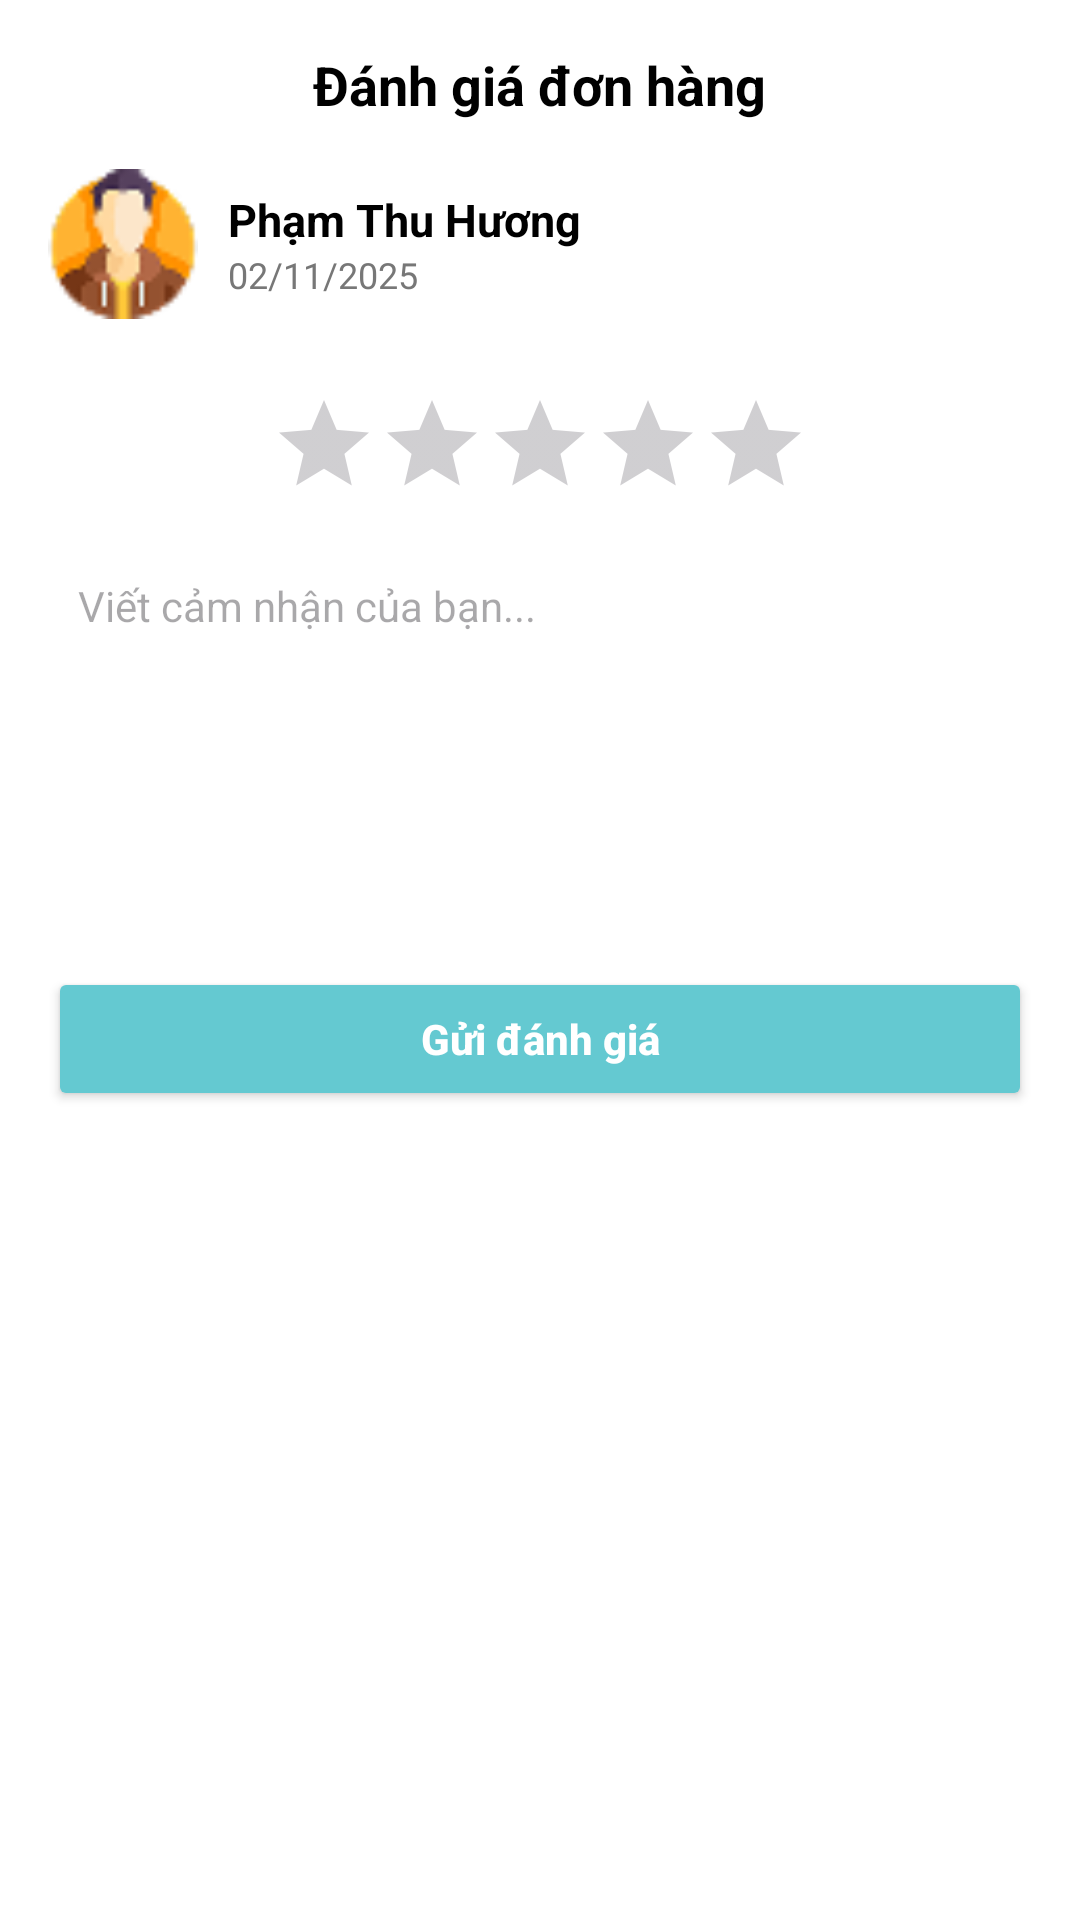

Named icons in this screenshot (1080×1920) and their bounding boxes, bbox(x1, y1, x2, y2):
avartar: bbox(50, 169, 196, 319)
